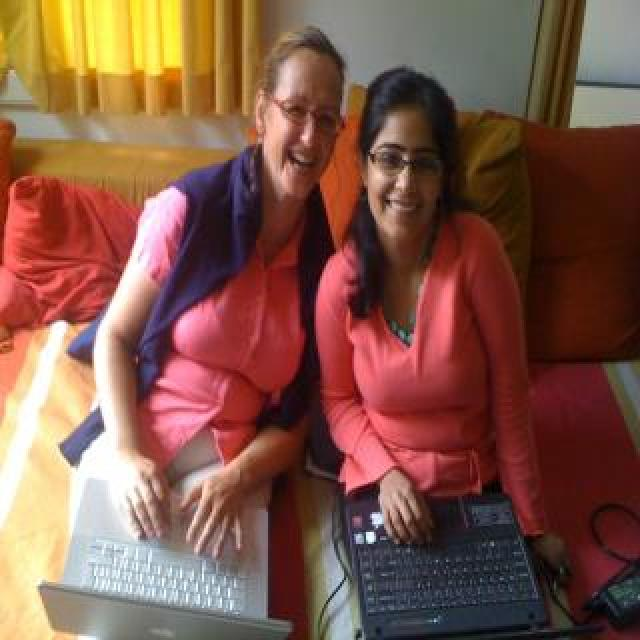laptop_computer: (47, 453, 293, 640), (342, 478, 586, 640)
